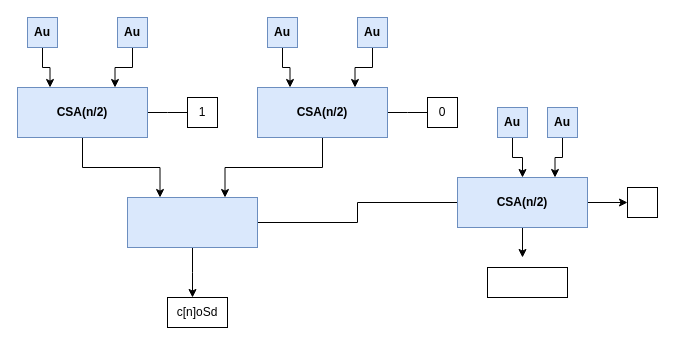
The diagram is 675 pixels wide and 345 high, and some of its shapes have lost their labels. The shapes that lost their labels are listed below. From the top down, each one's centre as x and y in pixels, then its label:
[192,222]: n/2 +1 mux 2:1
[642,202]: c[0]
[527,282]: Sd[n/2-1;0]
